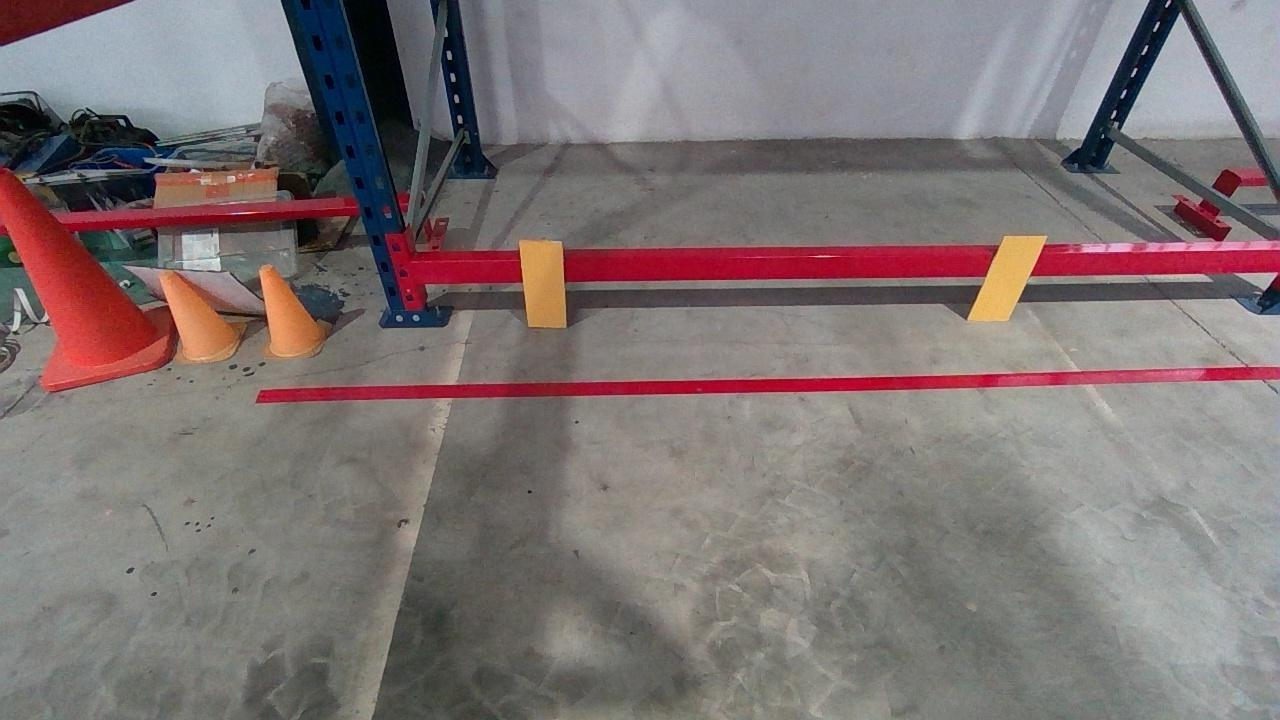h_rack: (411, 251, 1278, 283)
orange_strip: (967, 233, 1048, 321), (518, 240, 567, 326)
red_line: (247, 367, 1277, 399)
